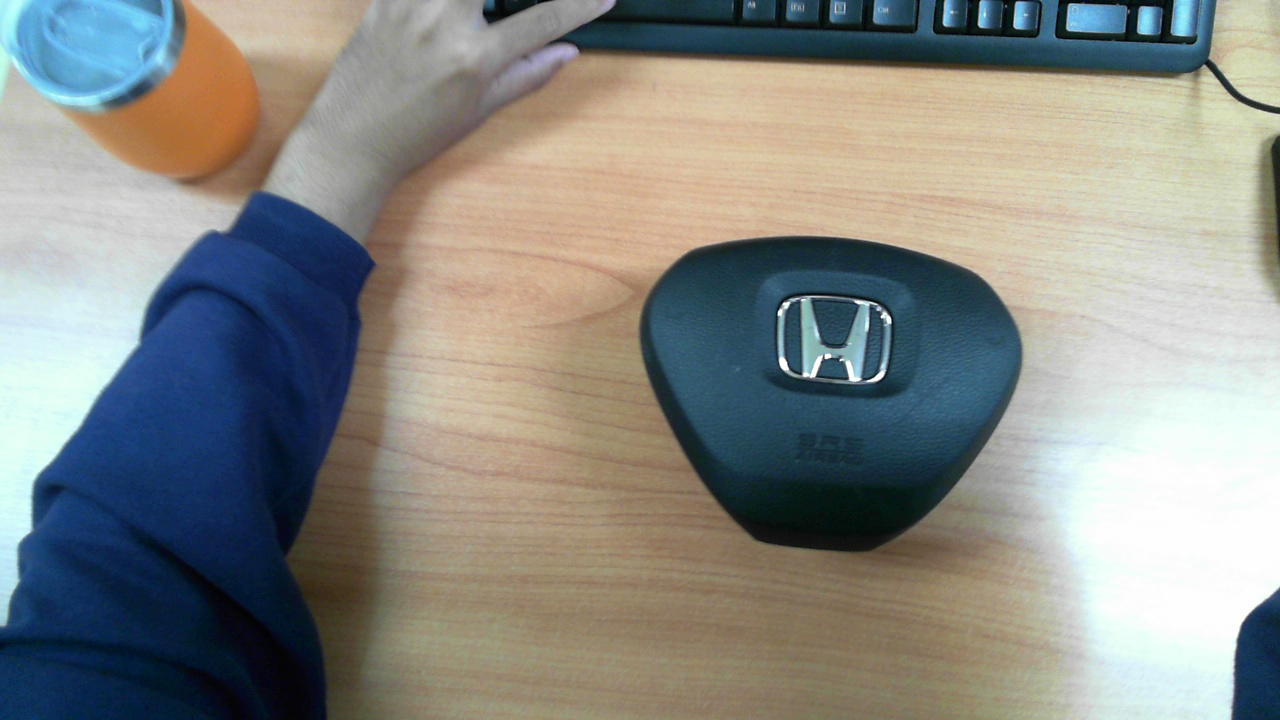Airbag: (640, 236, 1022, 551)
